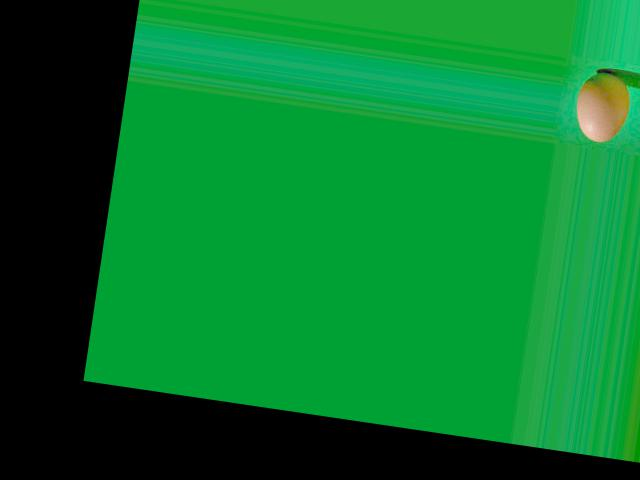egg: (572, 68, 634, 144)
